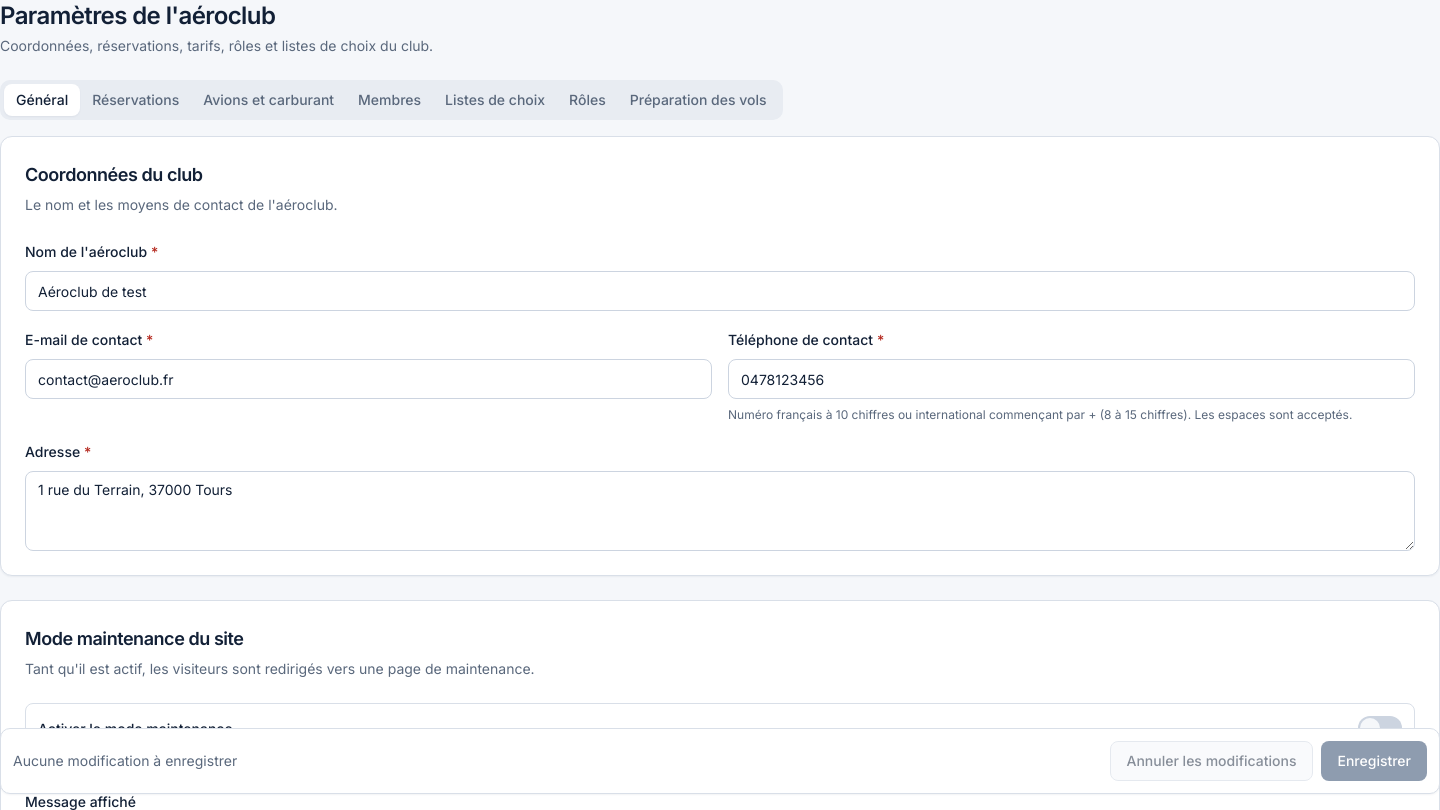
SettingsPage › garde les saisies d'un onglet à l'autre et les enregistre ensemble
This screenshot has width=1440, height=810.
Replace the text in the field labelled "Nom de l'aéroclub *" with "Aéroclub du Val" at (720, 291), box x1=25 y1=271 x2=1415 y2=311
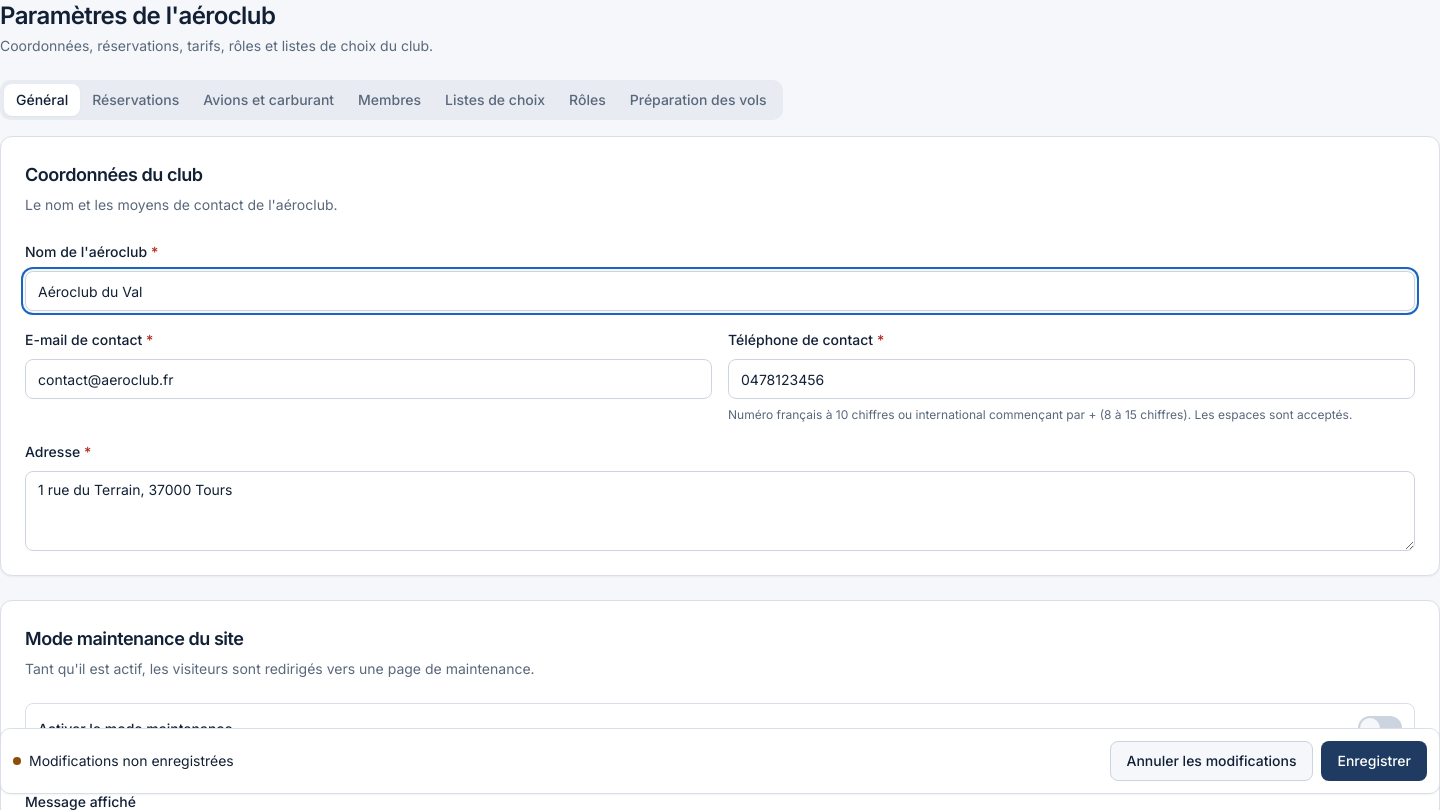
Now the text "Modifications non enregistrées" is shown, box x1=29 y1=751 x2=234 y2=771
Click the tab "Membres".
click(390, 100)  # box x1=346 y1=84 x2=433 y2=116
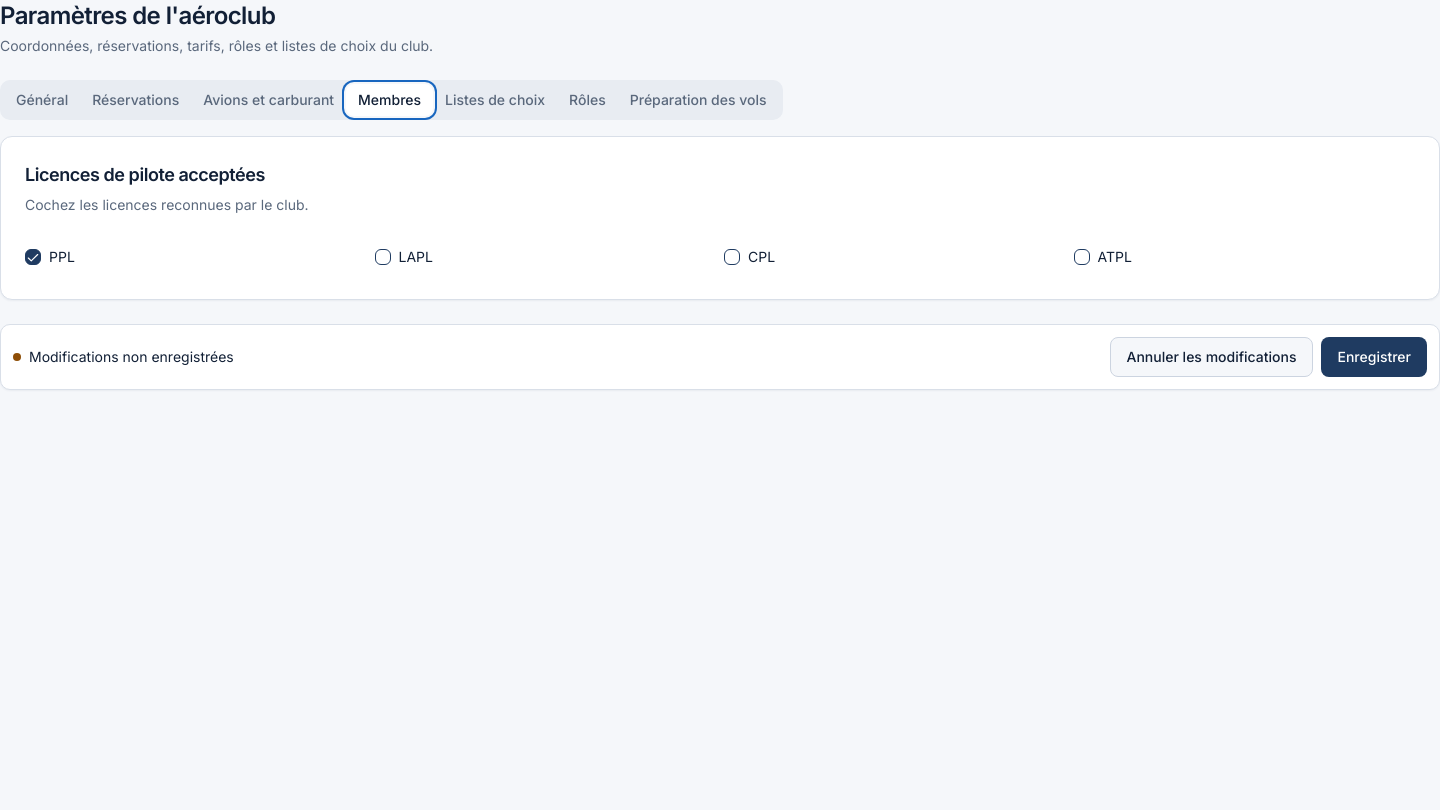
Click the checkbox named "CPL" next to "CPL".
click(732, 257)  # box x1=724 y1=249 x2=740 y2=265
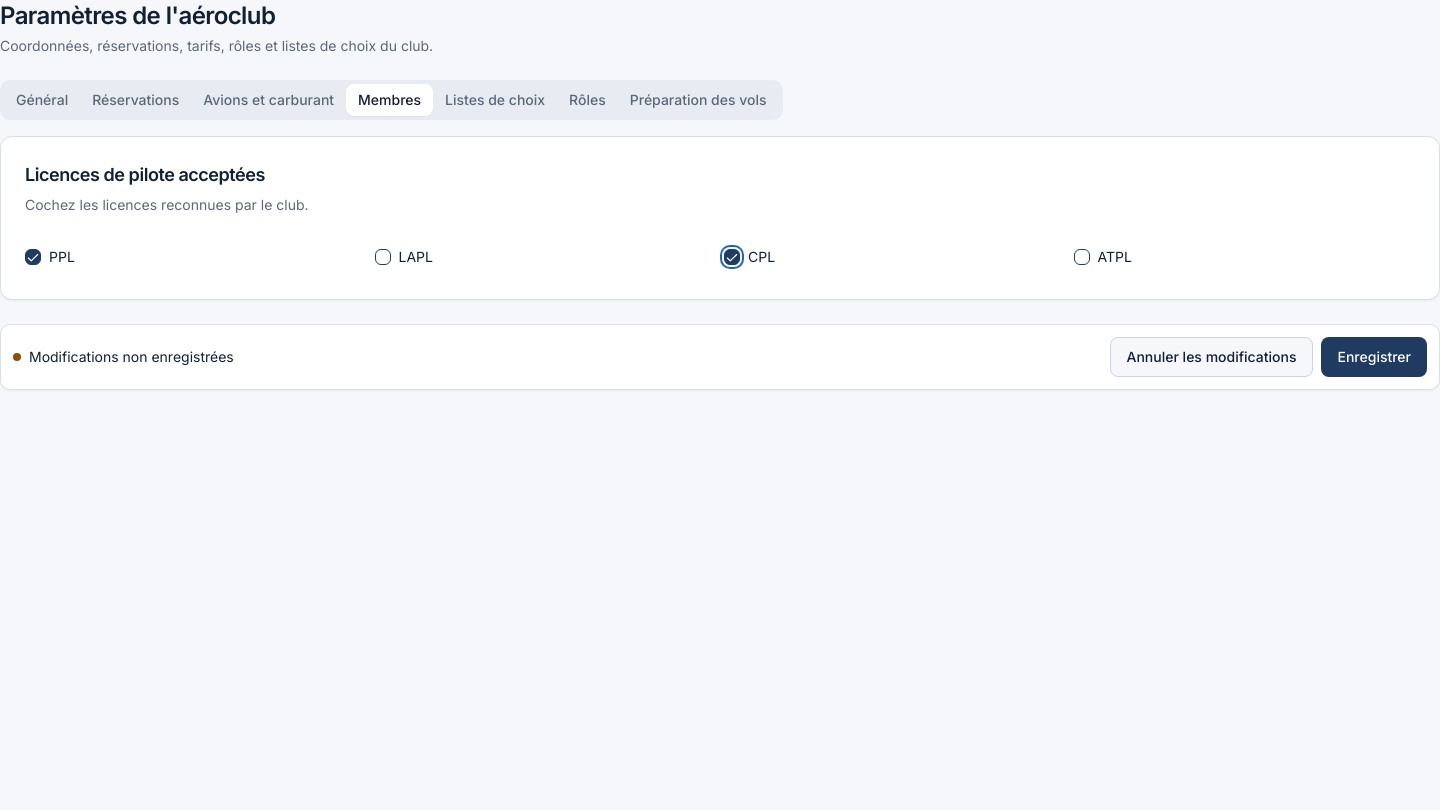
Click the tab "Général".
click(42, 100)  # box x1=4 y1=84 x2=80 y2=116
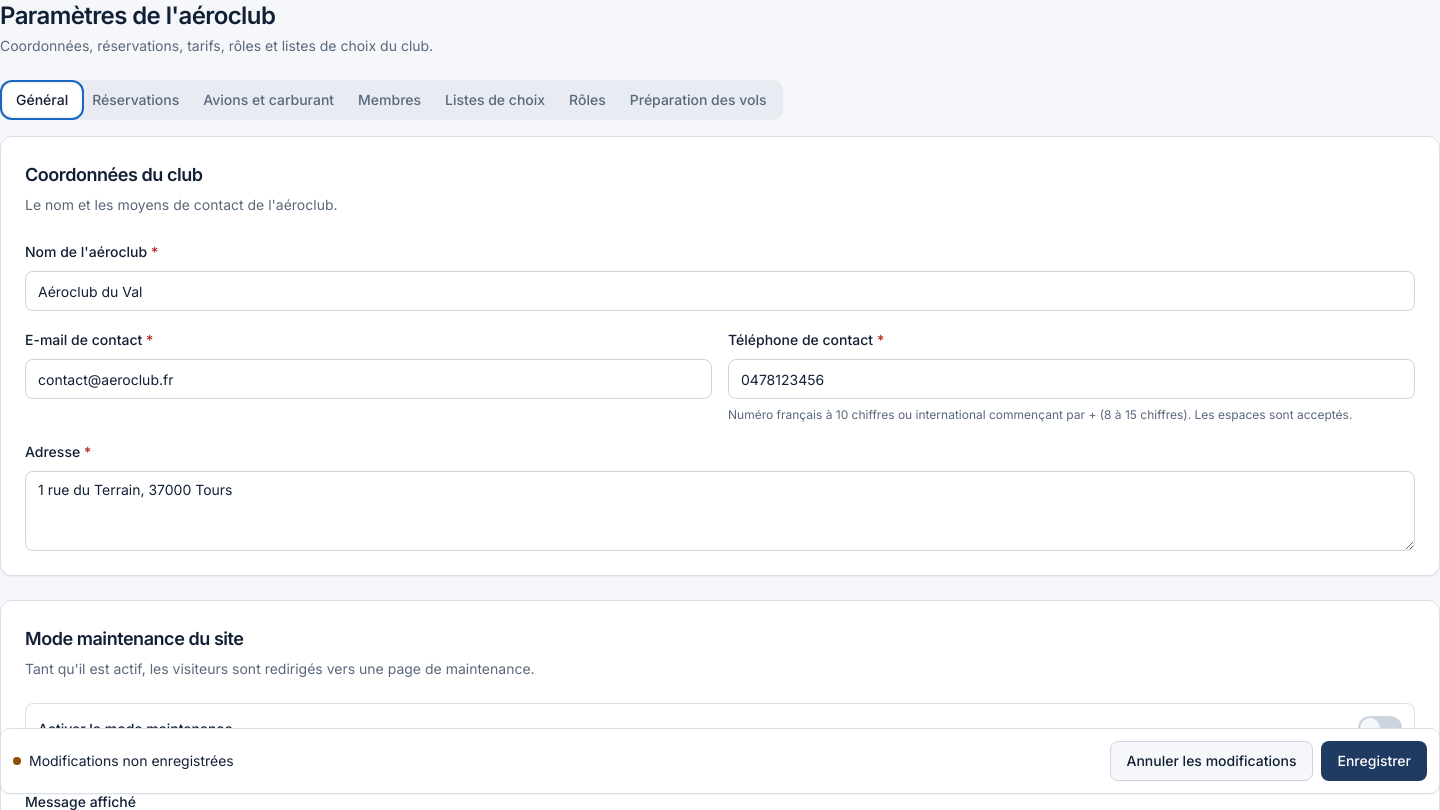
Now the field labelled "Nom de l'aéroclub *" holds "Aéroclub du Val", box x1=25 y1=271 x2=1415 y2=311
Click the tab "Membres".
click(390, 100)  # box x1=346 y1=84 x2=433 y2=116
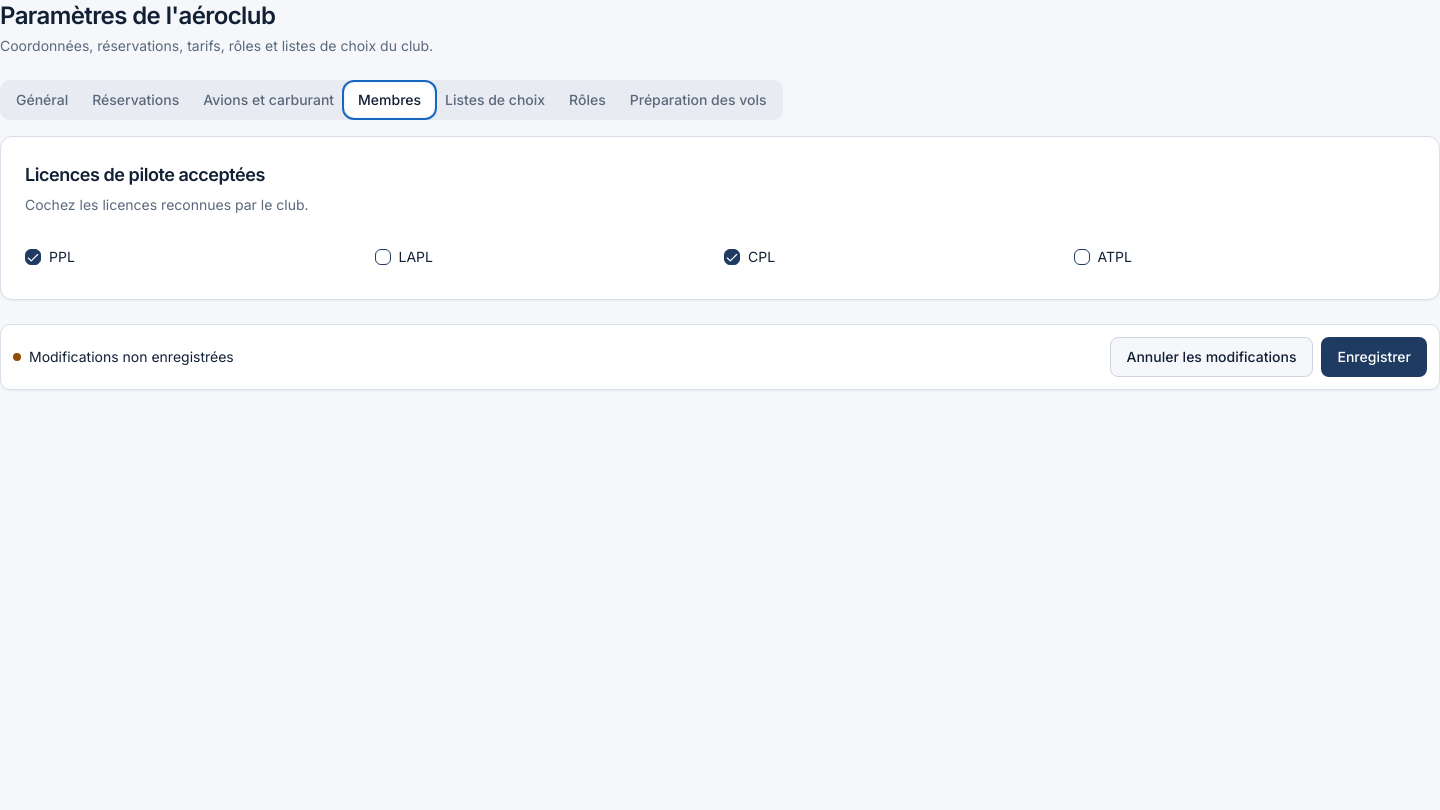
Now the checkbox named "CPL" next to "CPL" is checked, box x1=724 y1=249 x2=740 y2=265
Click the button "Enregistrer".
click(1374, 357)  # box x1=1322 y1=337 x2=1427 y2=377
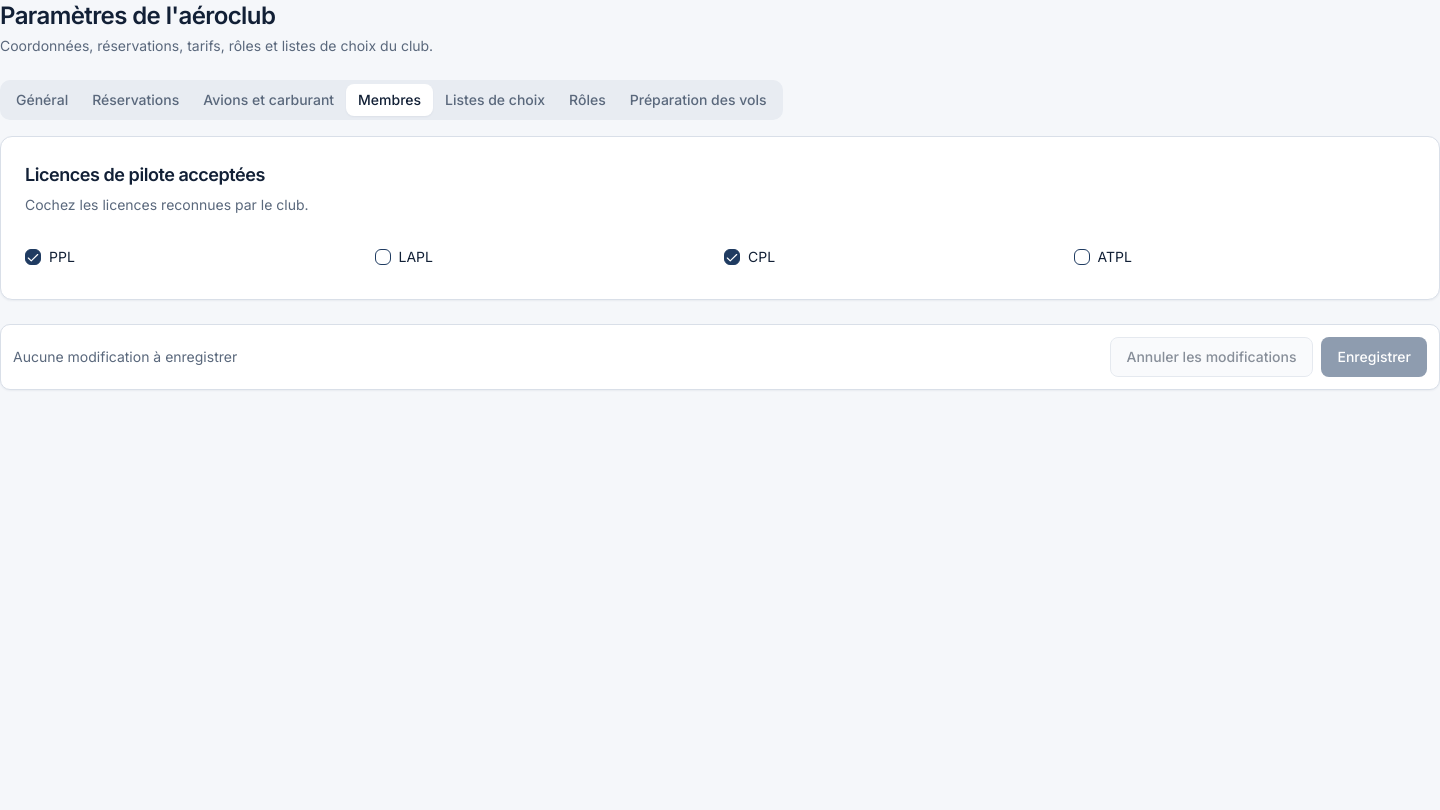
Now the text "Aucune modification à enregistrer" is shown, box x1=13 y1=347 x2=237 y2=367
Now the button "Enregistrer" is disabled, box x1=1322 y1=337 x2=1427 y2=377
